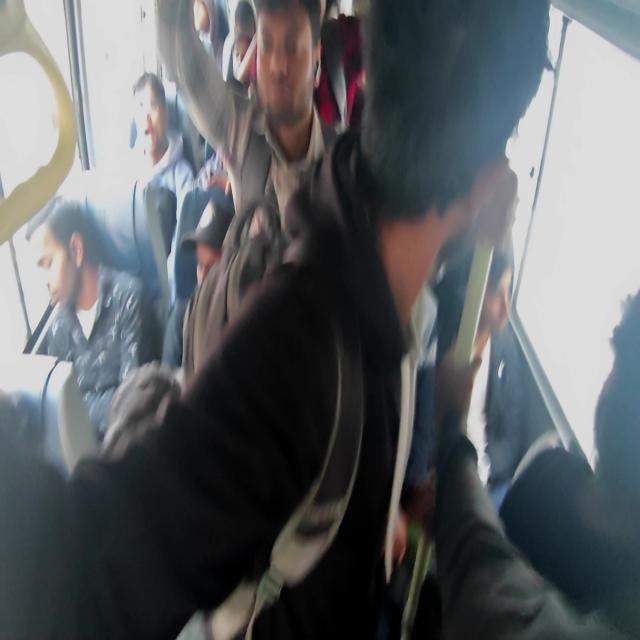person: (356, 9, 535, 265), (580, 298, 640, 620), (256, 6, 316, 142), (29, 199, 98, 314), (130, 76, 173, 182), (194, 216, 230, 312), (475, 249, 515, 335), (191, 0, 218, 39), (235, 41, 253, 94), (236, 5, 258, 45)
